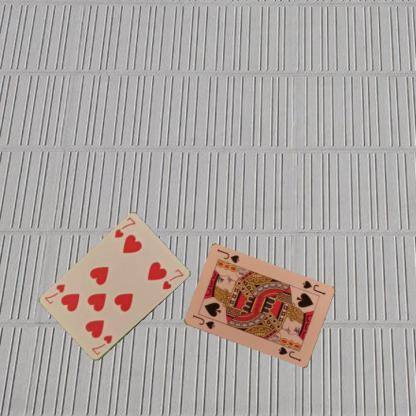7h: (112, 214, 137, 239), (89, 332, 114, 356)
Js: (190, 312, 216, 330), (300, 278, 326, 296)
